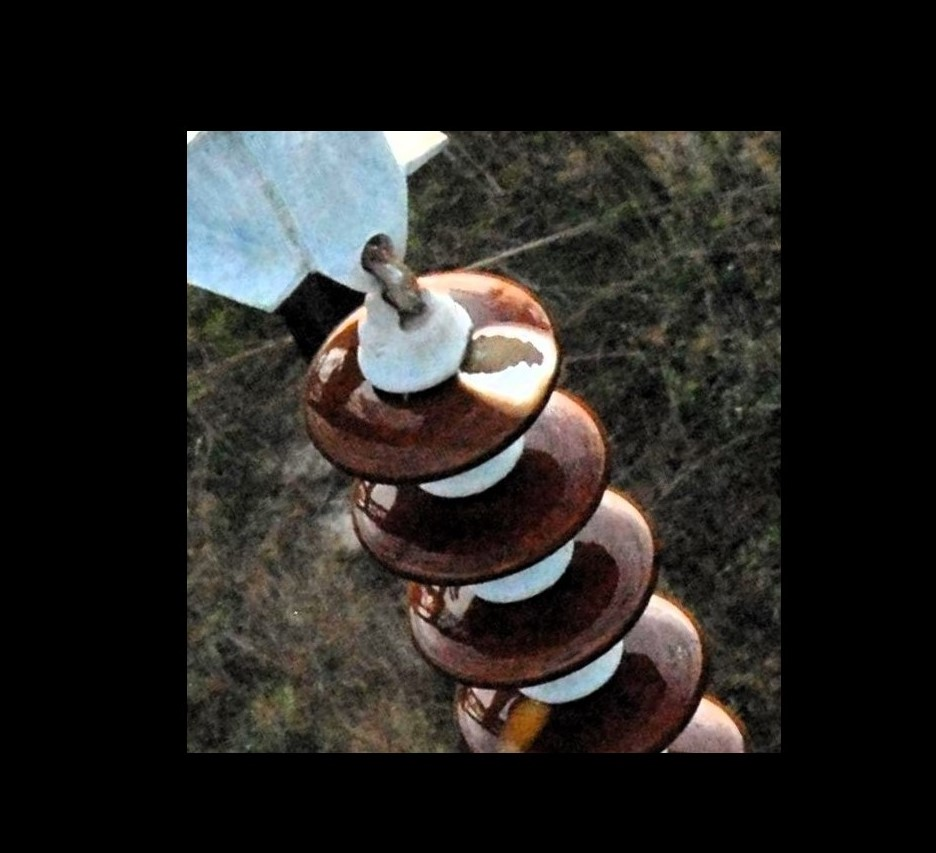Insulator flashover: (296, 265, 568, 491)
